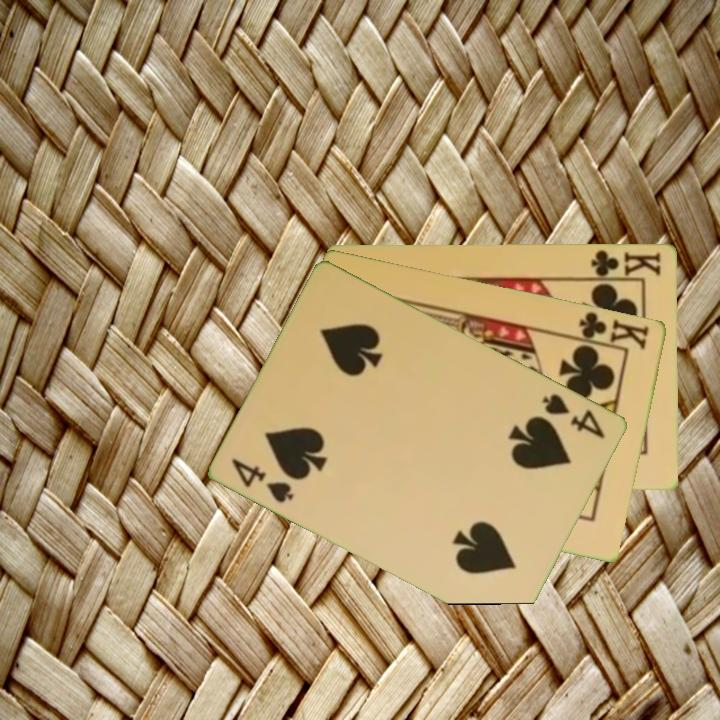4s: (539, 389, 608, 442), (228, 454, 298, 506)
Kc: (570, 307, 653, 352), (584, 246, 664, 280)
